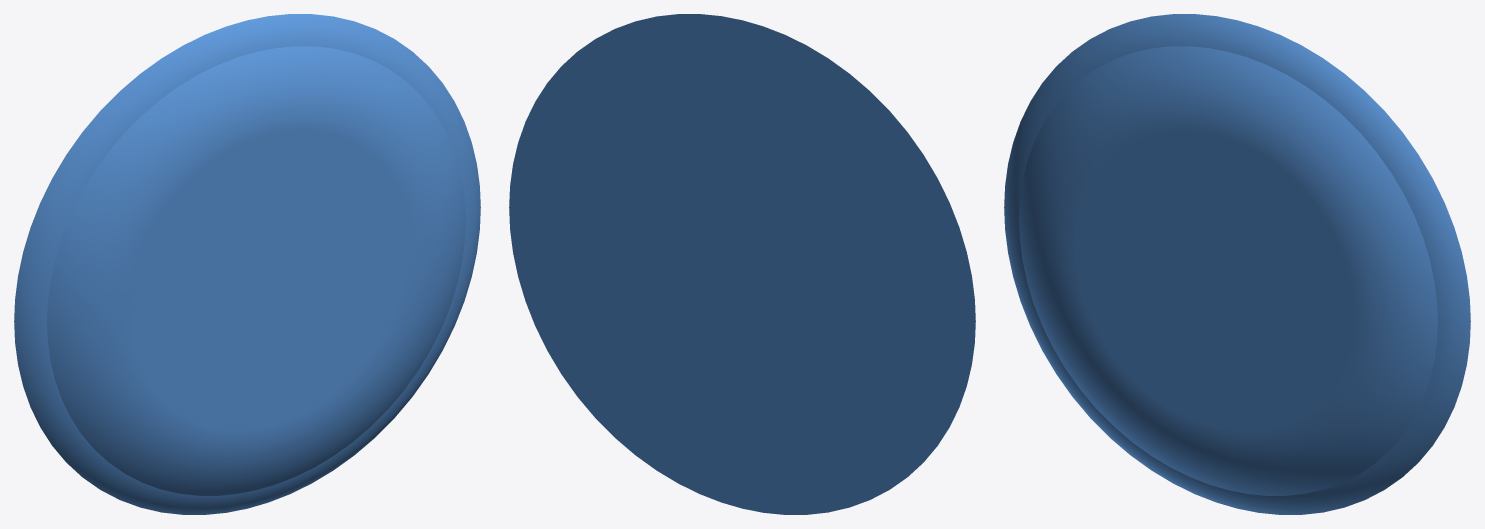
Rendered from SpawnPoint For Supermarket Game.fbx.
3 views of the same model, side by side, from view 1: azimuth 30°, elevation 25°; view 2: azimuth 150°, elevation 25°; view 3: azimuth 330°, elevation 25° (orthographic).
Parts seen in each view (by area): view 1: Body1; view 2: Body1; view 3: Body1.
Part boxes in pixels (<box>): Body1: <box>14,14,480,514</box>; Body1: <box>509,14,975,514</box>; Body1: <box>1004,14,1470,514</box>.
Size of the model in its own units: 60 by 60 by 5.
